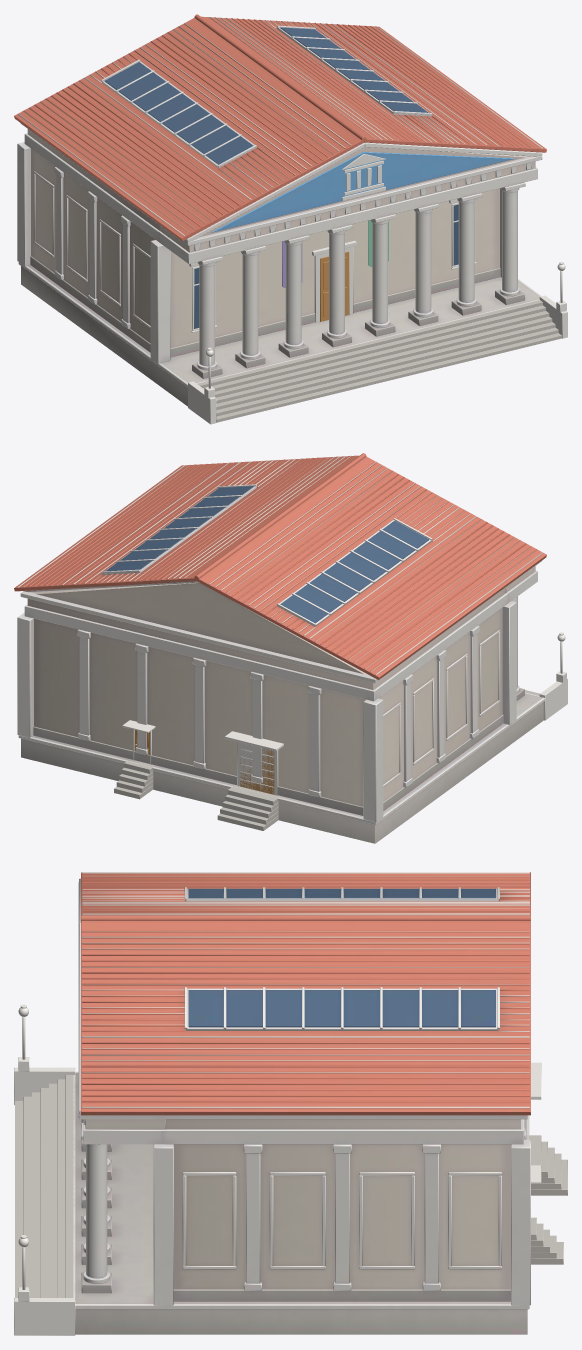
Rendered from museum-grab3d.glb.
The picture shows the model from 3 angles, top to bottom: view 1: azimuth 30°, elevation 25°; view 2: azimuth 150°, elevation 25°; view 3: azimuth 270°, elevation 25°; orthographic projection. The views are drawn at different scales.
Parts seen in each view (by area): view 1: museum_body, museum_details, museum_temple_emblem; view 2: museum_body, museum_details; view 3: museum_body, museum_details.
Part boxes in pixels (<box>): museum_body: <box>14,14,546,406</box>; museum_details: <box>188,199,567,424</box>; museum_temple_emblem: <box>342,154,385,200</box>; museum_body: <box>14,453,546,843</box>; museum_details: <box>114,632,567,830</box>; museum_body: <box>73,872,530,1334</box>; museum_details: <box>14,1004,567,1335</box>.
Size of the model in its own units: 25.35 by 14.95 by 24.8.
Materials: 8 (1 with a texture image).
